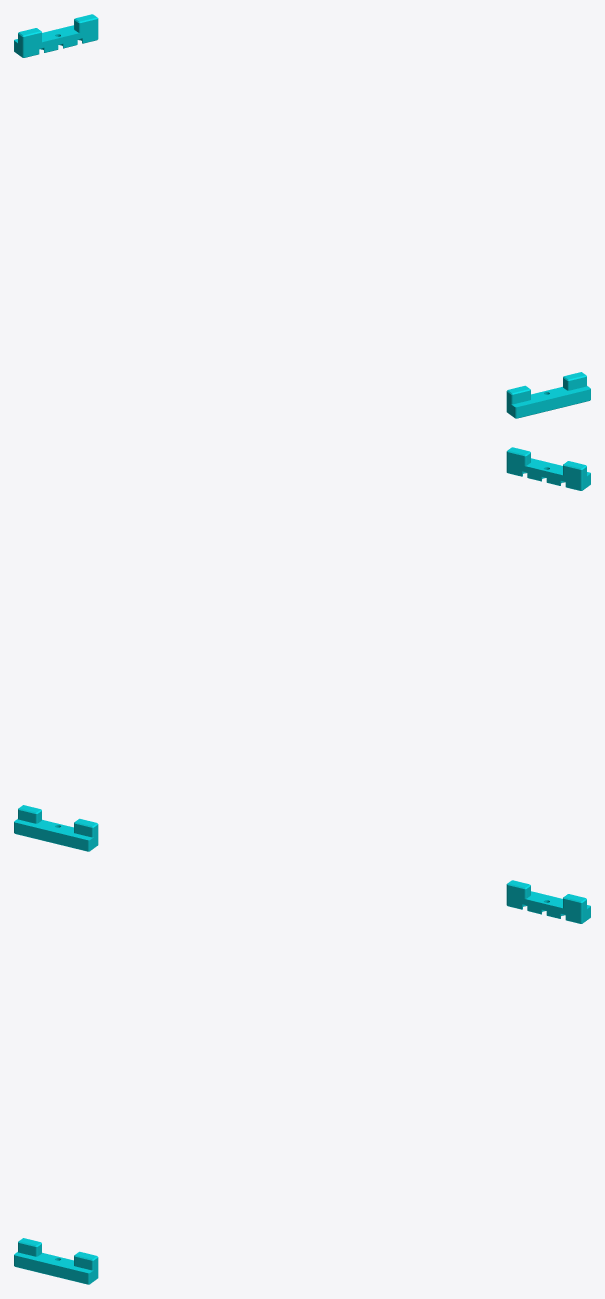
Rendered from panels.glb.
The picture shows the model from 3 angles, top to bottom: view 1: azimuth 30°, elevation 25°; view 2: azimuth 150°, elevation 25°; view 3: azimuth 330°, elevation 25°; orthographic projection.
Bounding box in the file's own units: 45.8 × 13 × 524.
